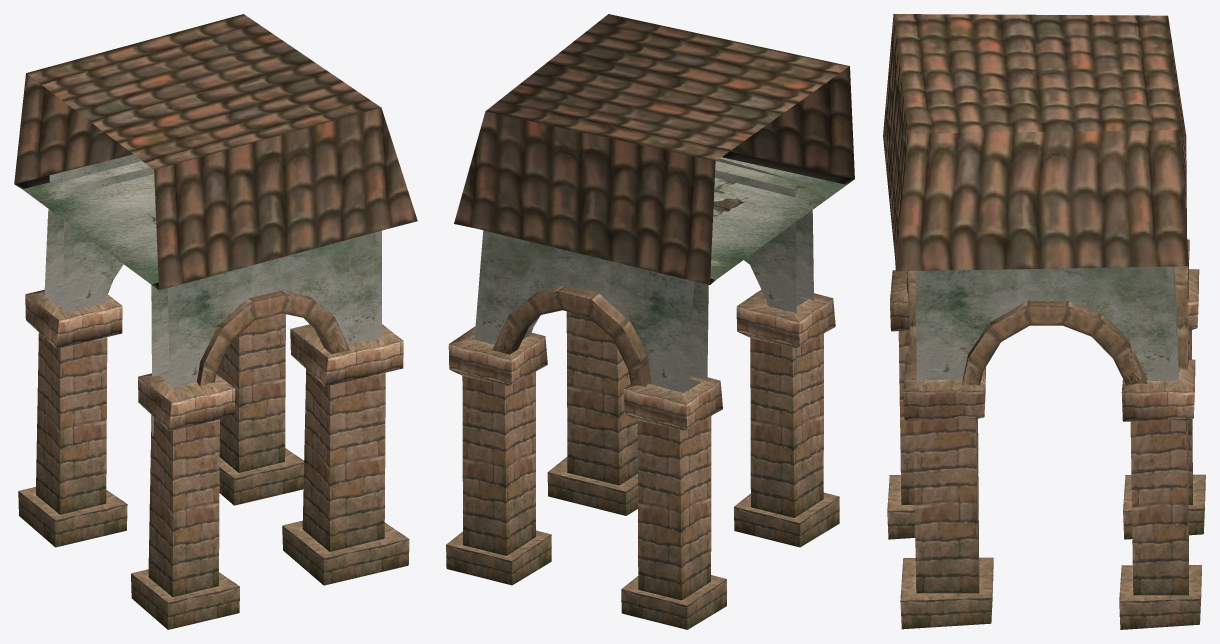
File: spanish_npc_attach_fullarchR.fbx
3 views of the same model, side by side, from view 1: azimuth 30°, elevation 25°; view 2: azimuth 150°, elevation 25°; view 3: azimuth 270°, elevation 25° (orthographic). The views are drawn at different scales.
Parts seen in each view (by area): view 1: roof, wall, BrickColumnMoss28, BrickColumnMoss27, BrickColumnMoss29, BrickColumnMoss30, Arch3; view 2: roof, wall, BrickColumnMoss27, BrickColumnMoss29, BrickColumnMoss30, BrickColumnMoss28, Arch13; view 3: roof, BrickColumnMoss28, wall, BrickColumnMoss30, Arch14, BrickColumnMoss27, BrickColumnMoss29, Arch13, Arch3.
Boxes of the visible parts, bbox=[...] form: roof: bbox=[14, 14, 417, 290]; wall: bbox=[44, 154, 381, 436]; BrickColumnMoss28: bbox=[282, 324, 409, 585]; BrickColumnMoss27: bbox=[131, 372, 239, 629]; BrickColumnMoss29: bbox=[18, 289, 127, 547]; BrickColumnMoss30: bbox=[216, 313, 303, 505]; Arch3: bbox=[197, 290, 350, 386]; roof: bbox=[454, 14, 854, 284]; wall: bbox=[474, 158, 813, 430]; BrickColumnMoss27: bbox=[734, 289, 839, 547]; BrickColumnMoss29: bbox=[621, 375, 726, 629]; BrickColumnMoss30: bbox=[446, 326, 551, 585]; BrickColumnMoss28: bbox=[547, 311, 637, 515]; Arch13: bbox=[492, 286, 651, 386]; roof: bbox=[883, 14, 1188, 271]; BrickColumnMoss28: bbox=[900, 353, 993, 629]; wall: bbox=[915, 266, 1178, 381]; BrickColumnMoss30: bbox=[1119, 359, 1201, 629]; Arch14: bbox=[962, 300, 1147, 385]; BrickColumnMoss27: bbox=[887, 270, 915, 539]; BrickColumnMoss29: bbox=[1123, 269, 1205, 539]; Arch13: bbox=[1174, 239, 1189, 370]; Arch3: bbox=[906, 271, 916, 364].
Size of the model in its own units: 1200 by 1998 by 1211.
1 material, 1 textured.
